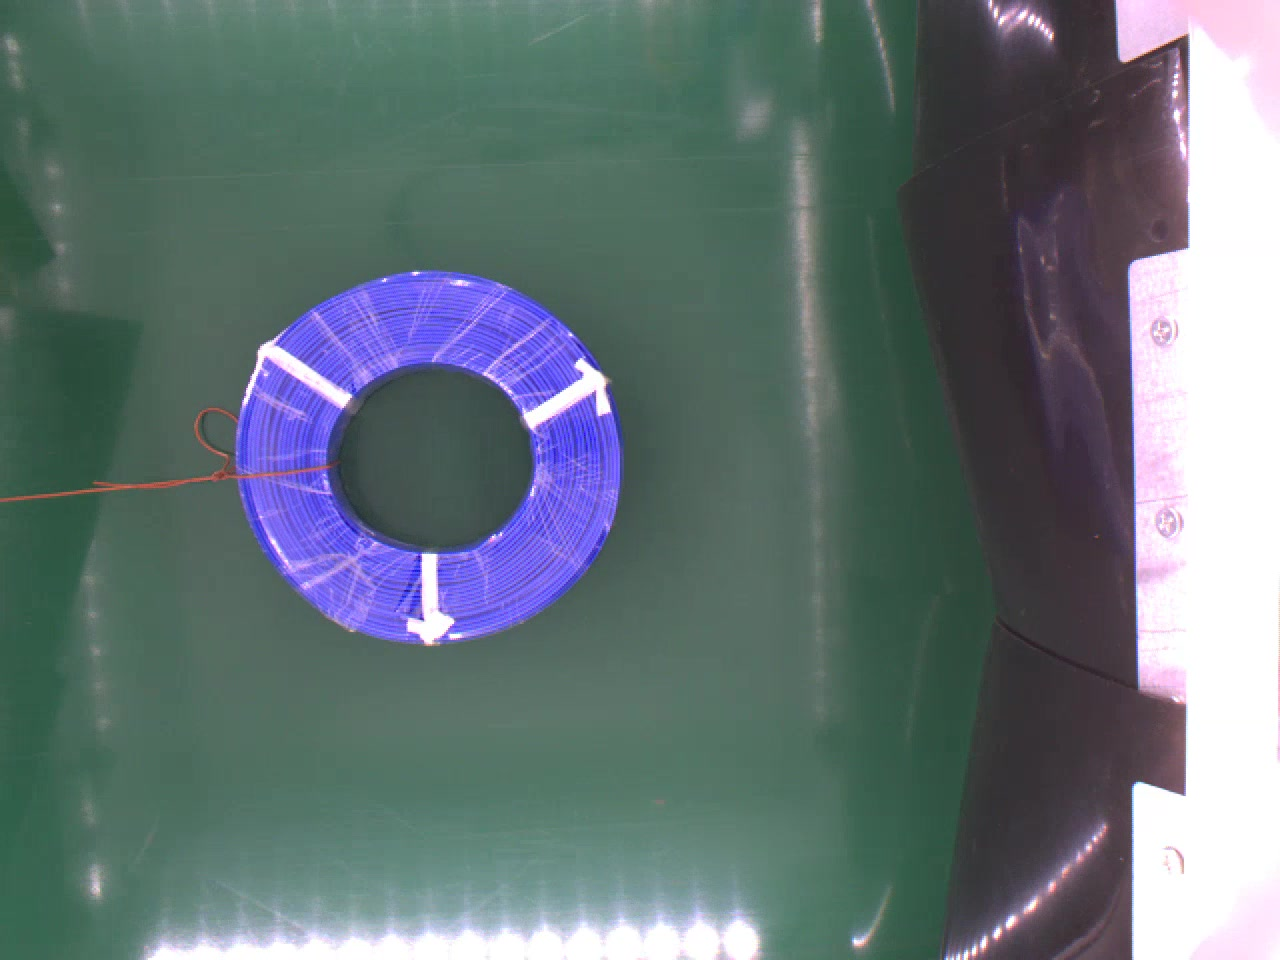blue: (231, 268, 625, 651)
